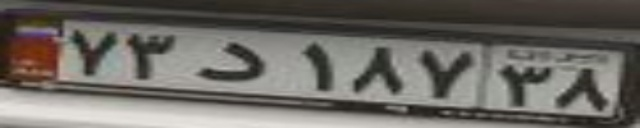1: (299, 42, 333, 91)
3: (493, 62, 553, 107), (125, 32, 176, 81)
7: (418, 48, 474, 99), (69, 28, 119, 77)
8: (348, 46, 405, 94), (554, 65, 609, 110)
dal: (194, 41, 266, 83)
